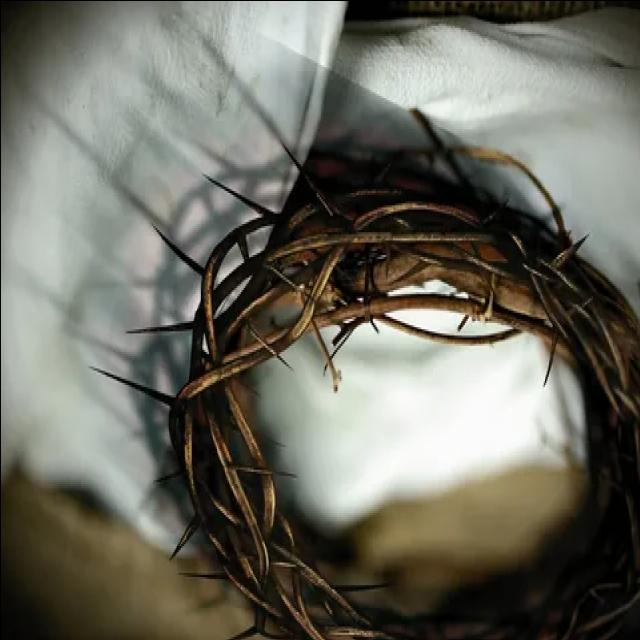crown: (138, 149, 640, 640)
